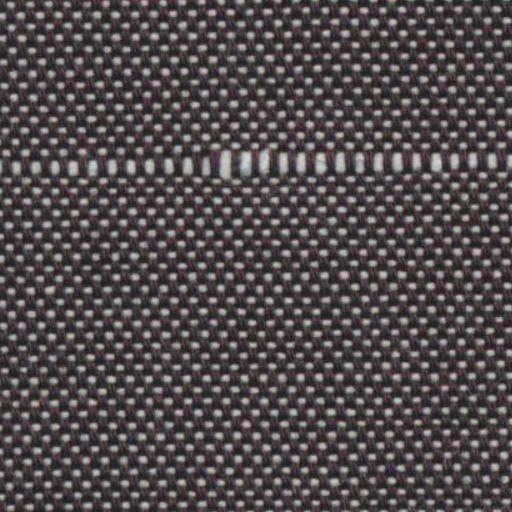DaiSha: (12, 139, 493, 190)
